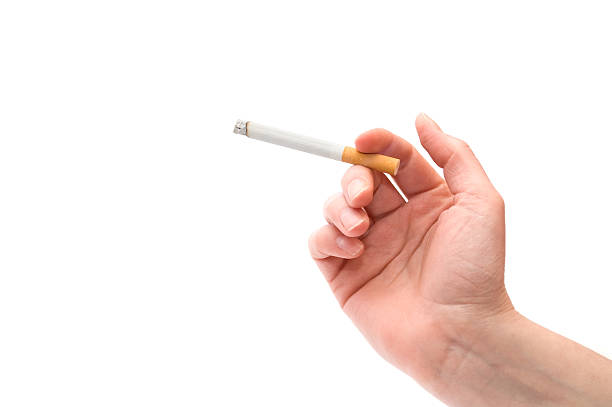cigarette: (230, 116, 400, 178)
